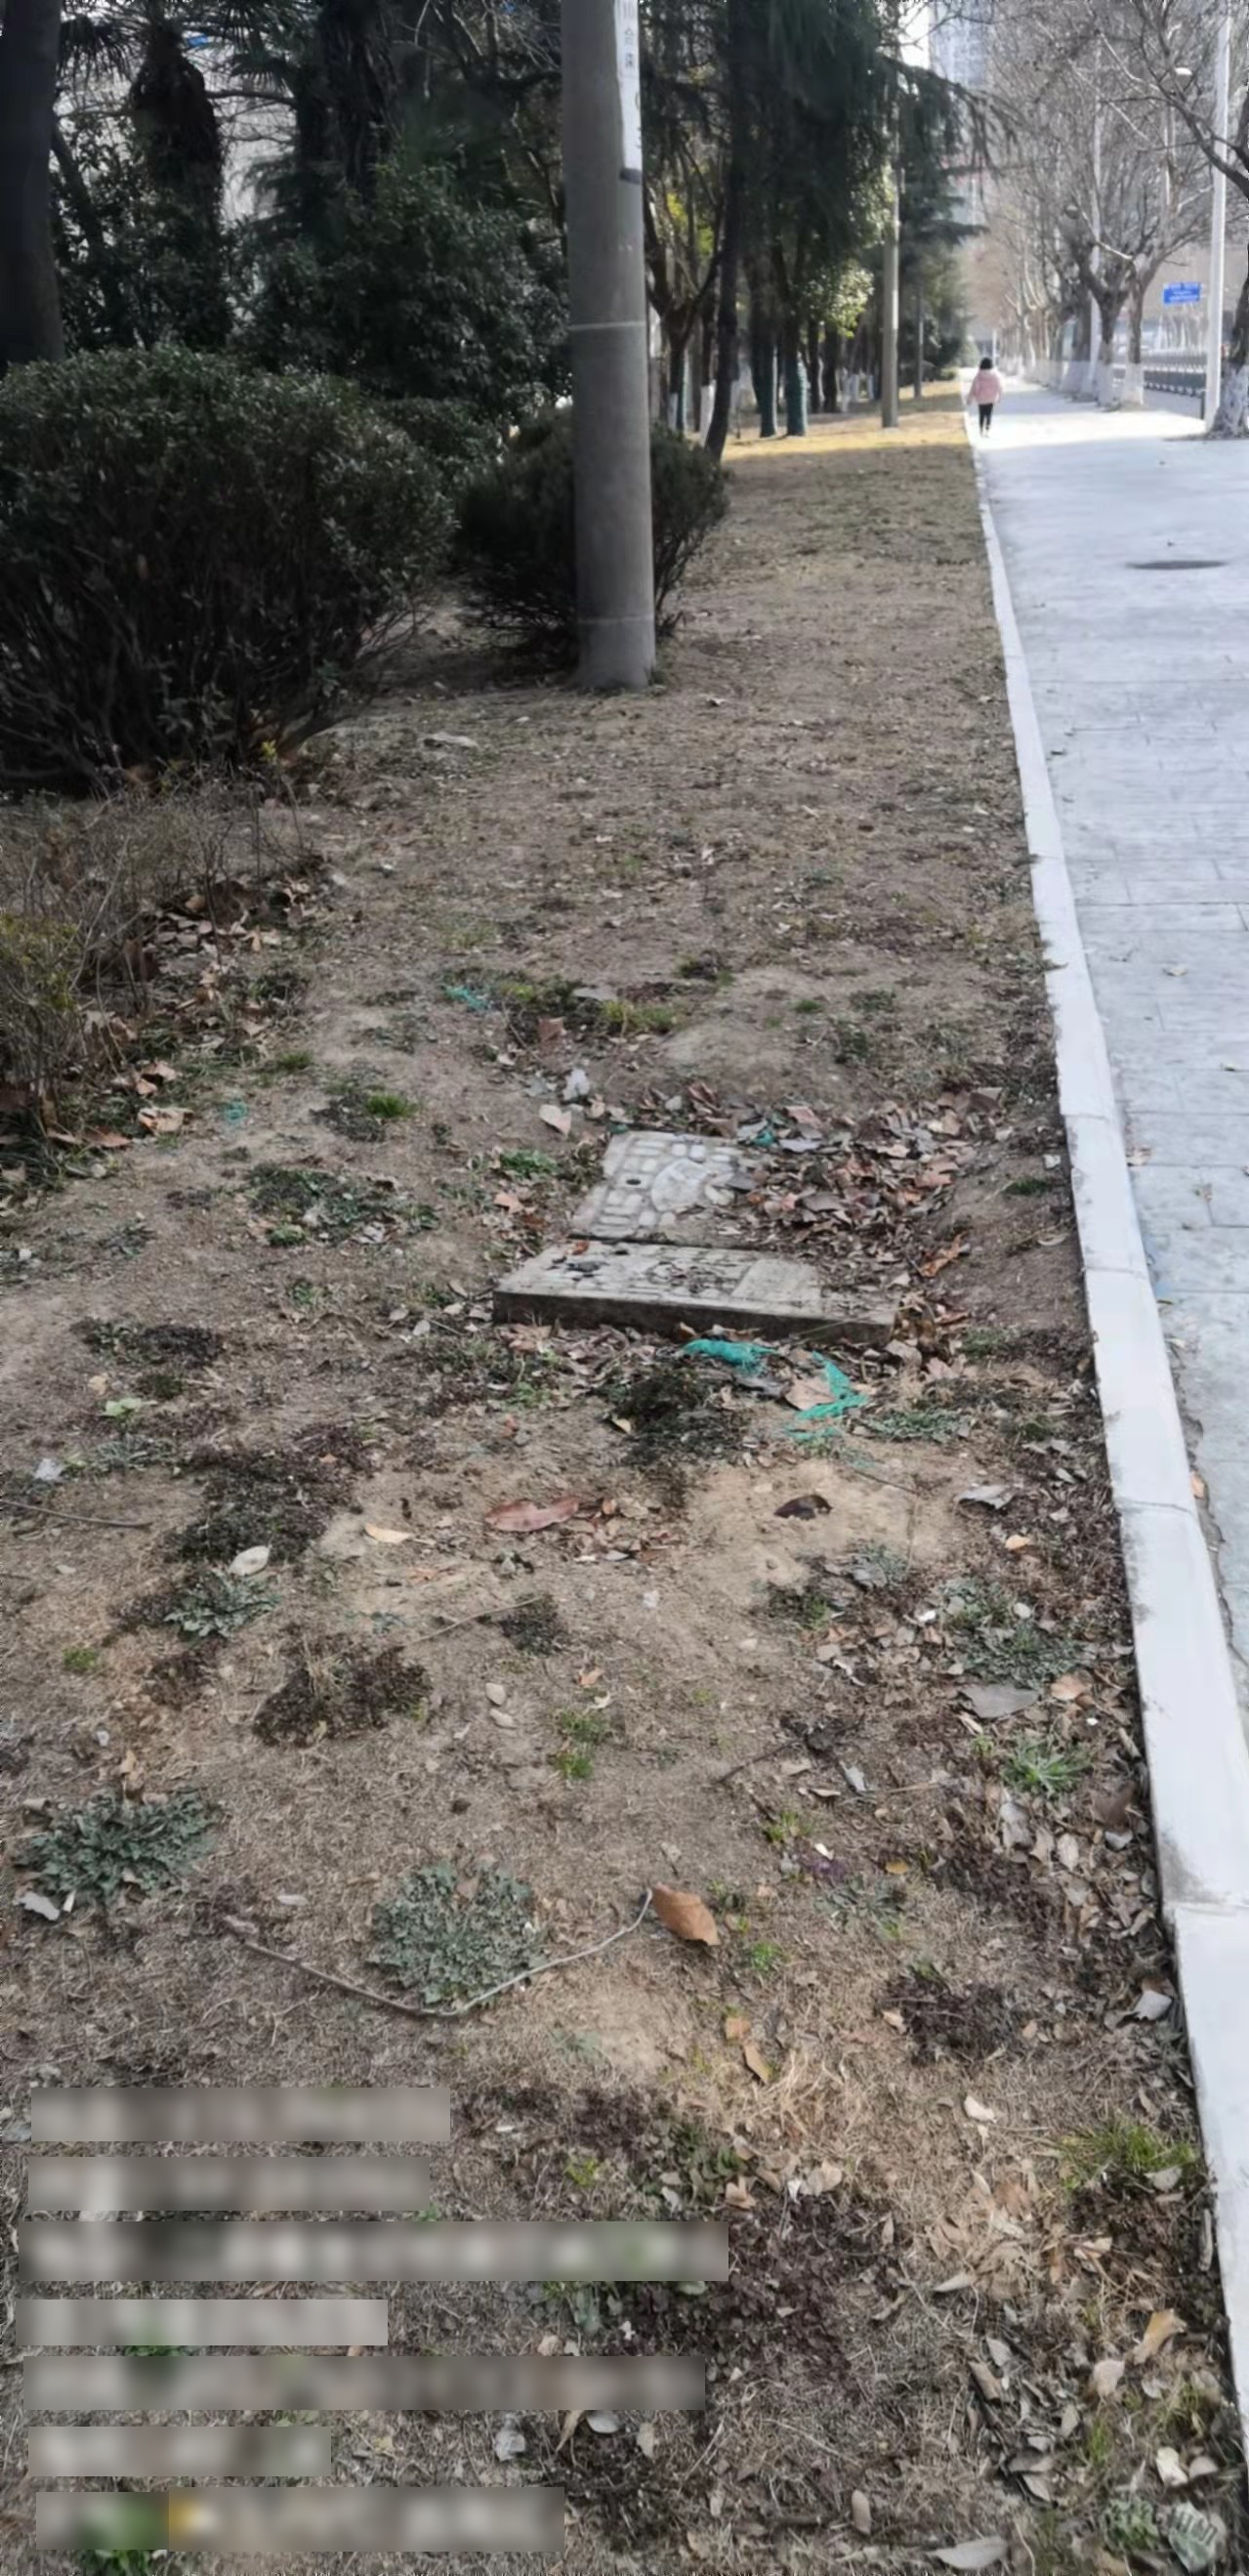uncovered: (484, 1122, 916, 1331)
